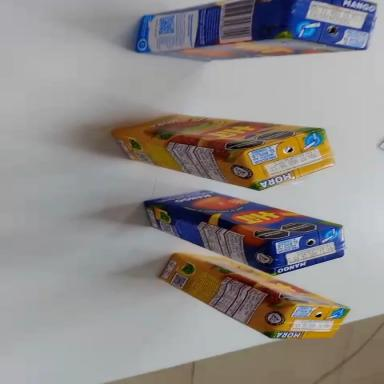HIT-MANGO: (135, 176, 350, 290), (132, 0, 379, 65)
HIT-MORA: (153, 237, 349, 361), (109, 109, 337, 197)
cara_F: (143, 174, 342, 259), (175, 239, 351, 325), (112, 107, 323, 159), (142, 32, 363, 66)
